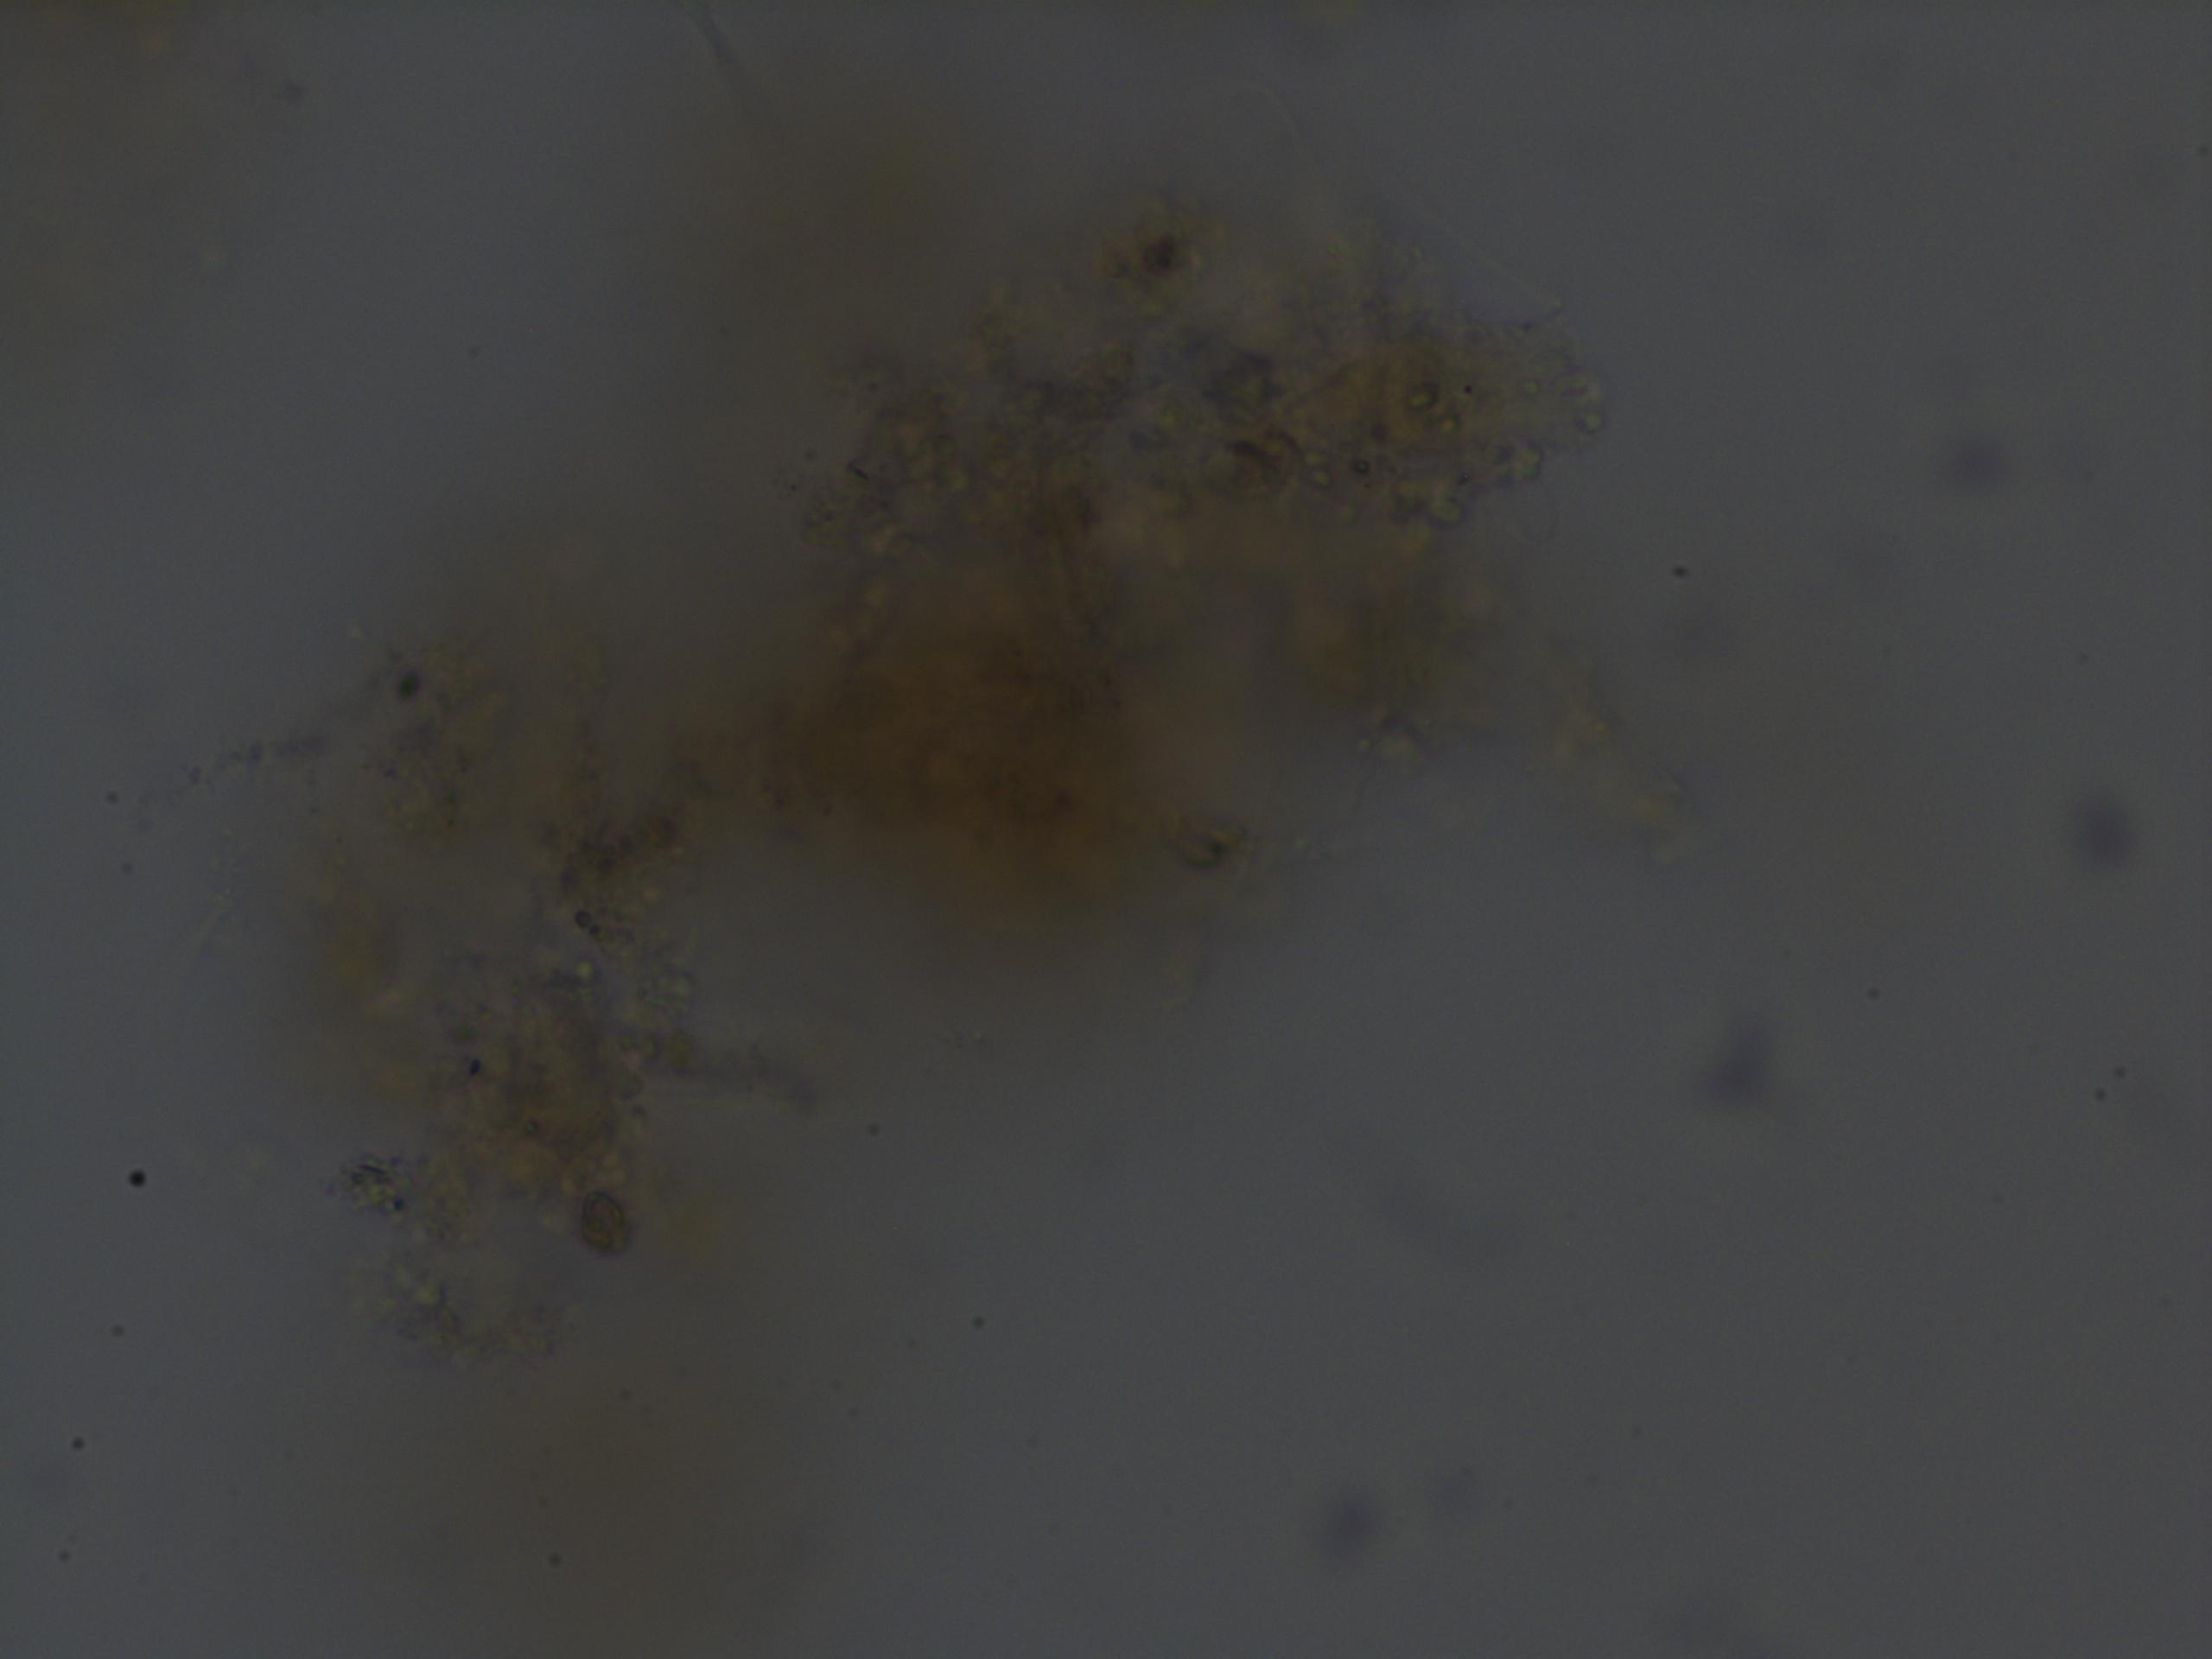open_floc: (272, 132, 1702, 1394)
